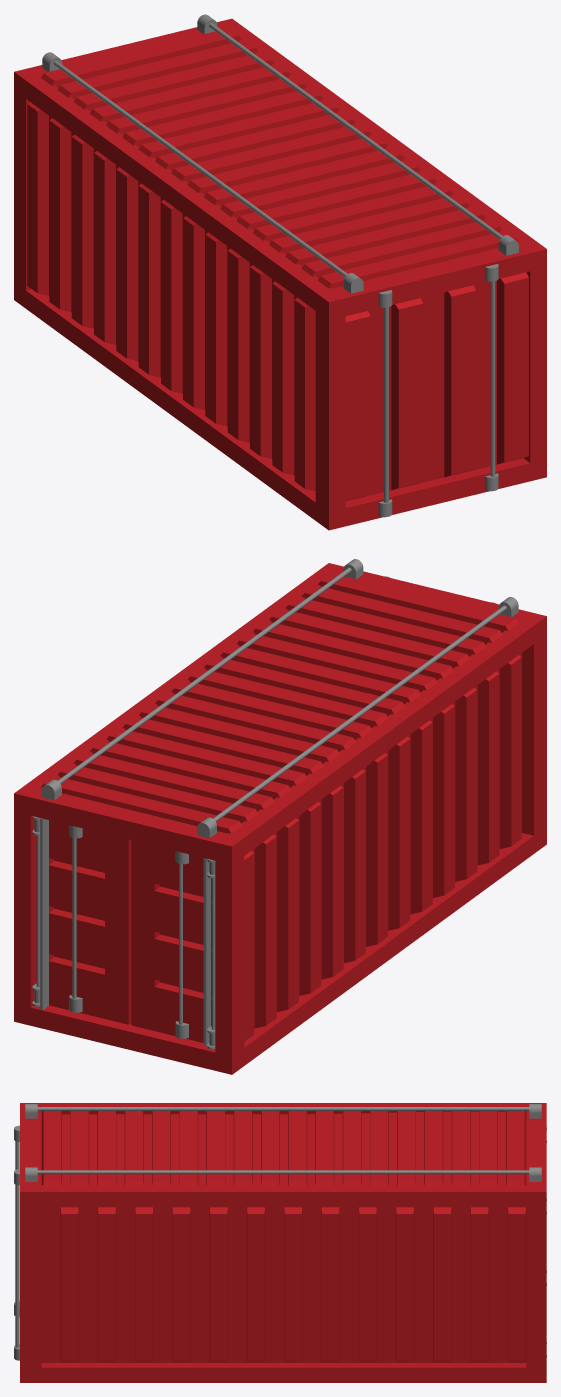
Rendered from ContainerMerah.fbx.
3 views of the same model, one above another, from view 1: azimuth 30°, elevation 25°; view 2: azimuth 150°, elevation 25°; view 3: azimuth 270°, elevation 25° (orthographic). The views are drawn at different scales.
Visible parts, largest first — view 1: ContainerMerah; view 2: ContainerMerah; view 3: ContainerMerah.
Part boxes in pixels (x1,y1,x2,y2): ContainerMerah: (14,14,546,530); ContainerMerah: (14,559,546,1074); ContainerMerah: (14,1103,546,1382).
Size of the model in its own units: 604 by 640 by 1528.
